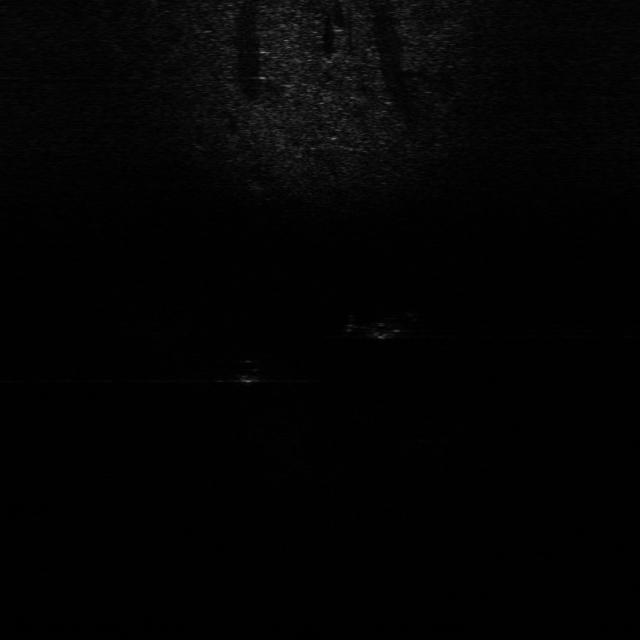ball: (230, 356, 270, 386)
human body: (230, 357, 270, 385)
